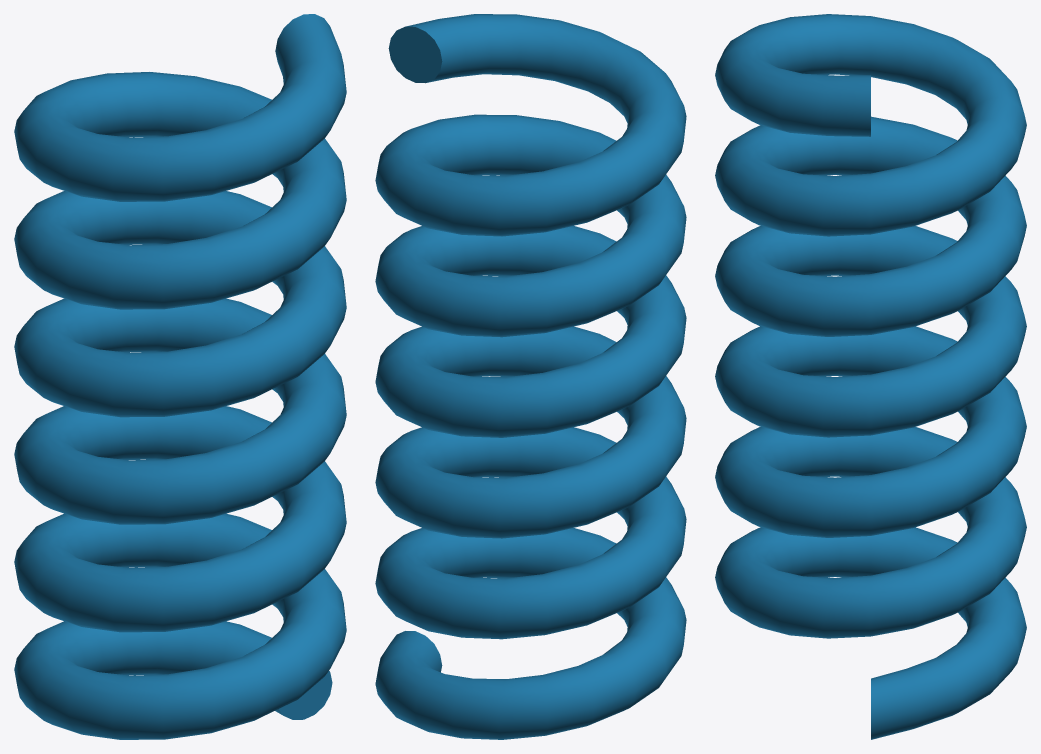
Rendered from KR_Model_Springs_Vang.fbx.
The picture shows the model from 3 angles, left to right: view 1: azimuth 30°, elevation 25°; view 2: azimuth 150°, elevation 25°; view 3: azimuth 270°, elevation 25°; orthographic projection. The views are drawn at different scales.
Visible parts, largest first — view 1: spring3; view 2: spring3; view 3: spring3.
Boxes of the visible parts, box(x1,y1,x2,y2) form: spring3: box(14, 14, 346, 739); spring3: box(375, 14, 686, 739); spring3: box(715, 14, 1026, 739).
Bounding box in the file's own units: 1.92 × 4.37 × 1.87.
